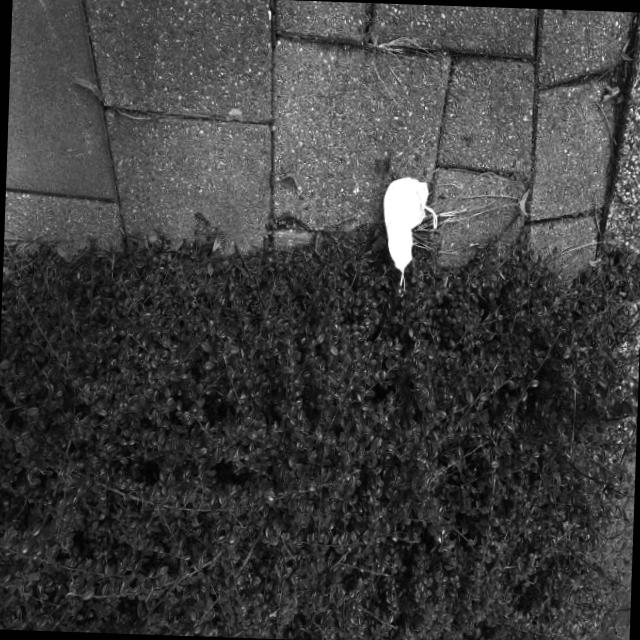Mask: (376, 172, 441, 300)
